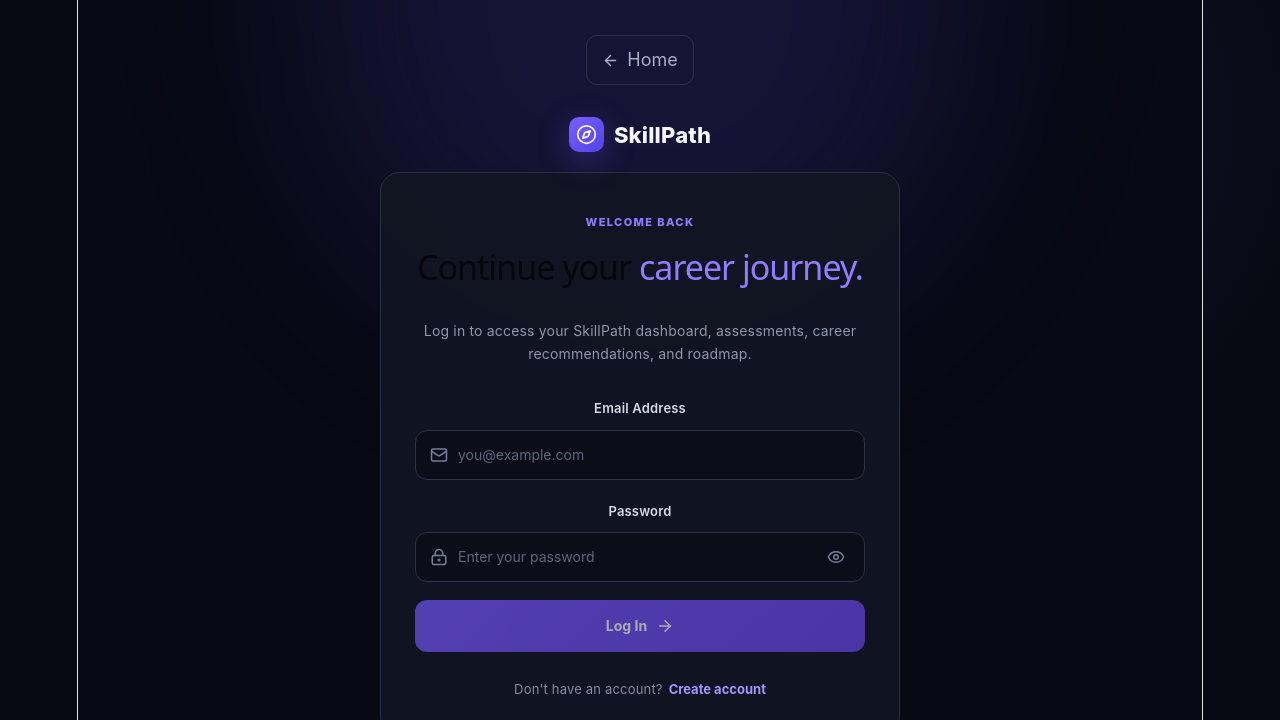
Login page › enables login after email and password are entered
expect the button "Log In" is disabled: met, box [415,600,865,652]
Type "test@example.com" into the field labelled "Email Address".
click(654, 455); type("test@example.com")  # box [458,442,850,468]
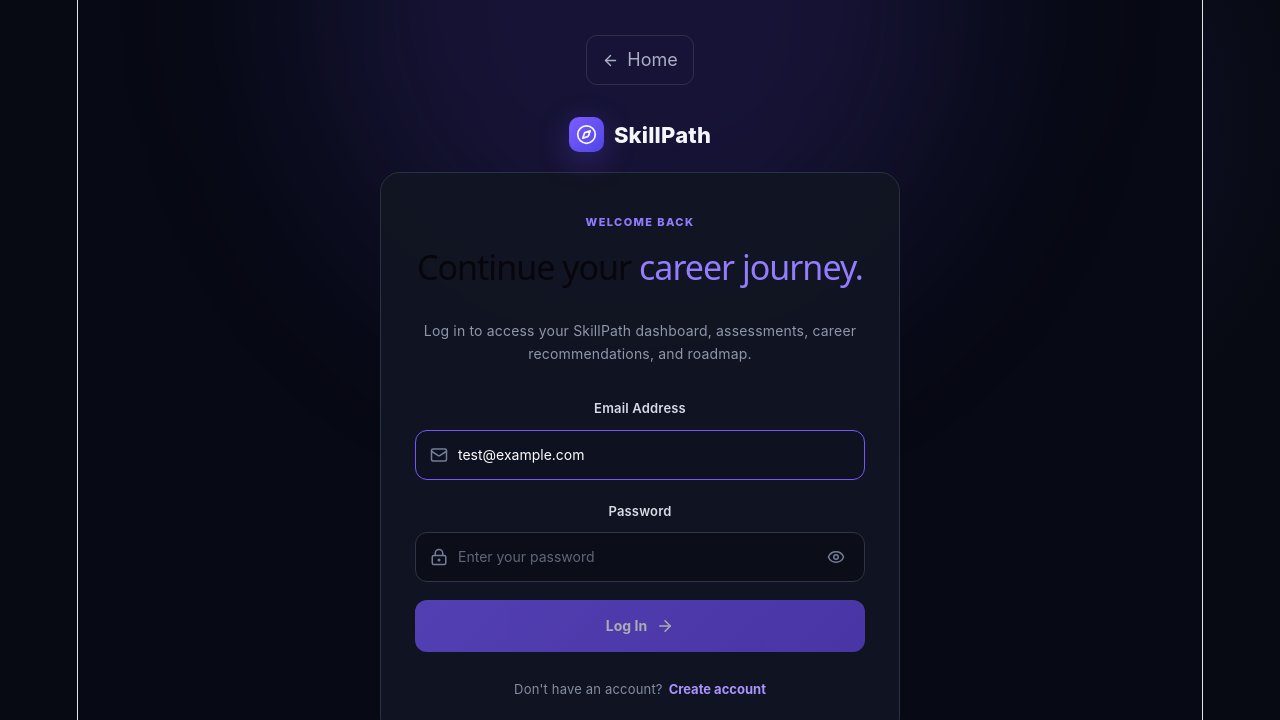
Type "password123" into the password field labelled "Password".
click(635, 557); type("password123")  # box [458,544,812,570]
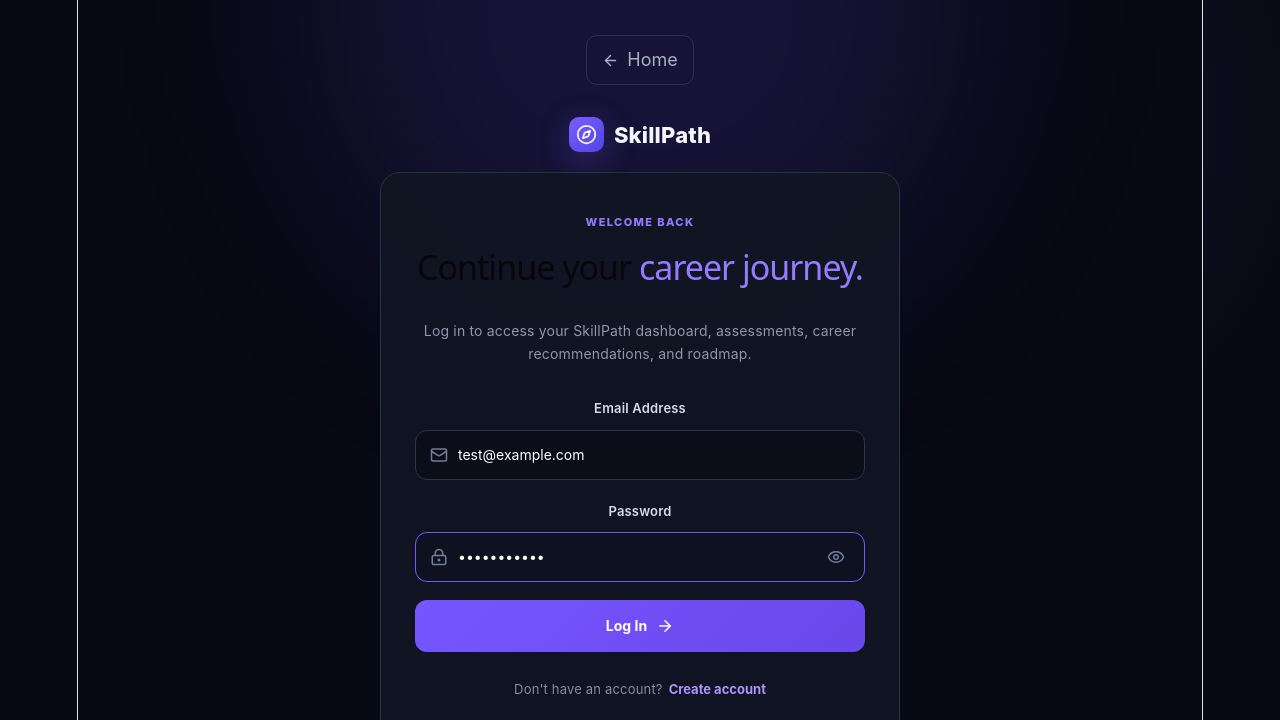
expect the button "Log In" is enabled: met, box [415,600,865,652]
